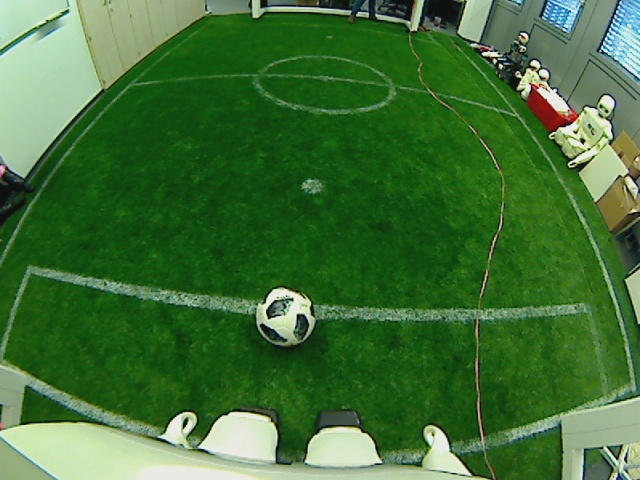ball: (254, 283, 319, 352)
